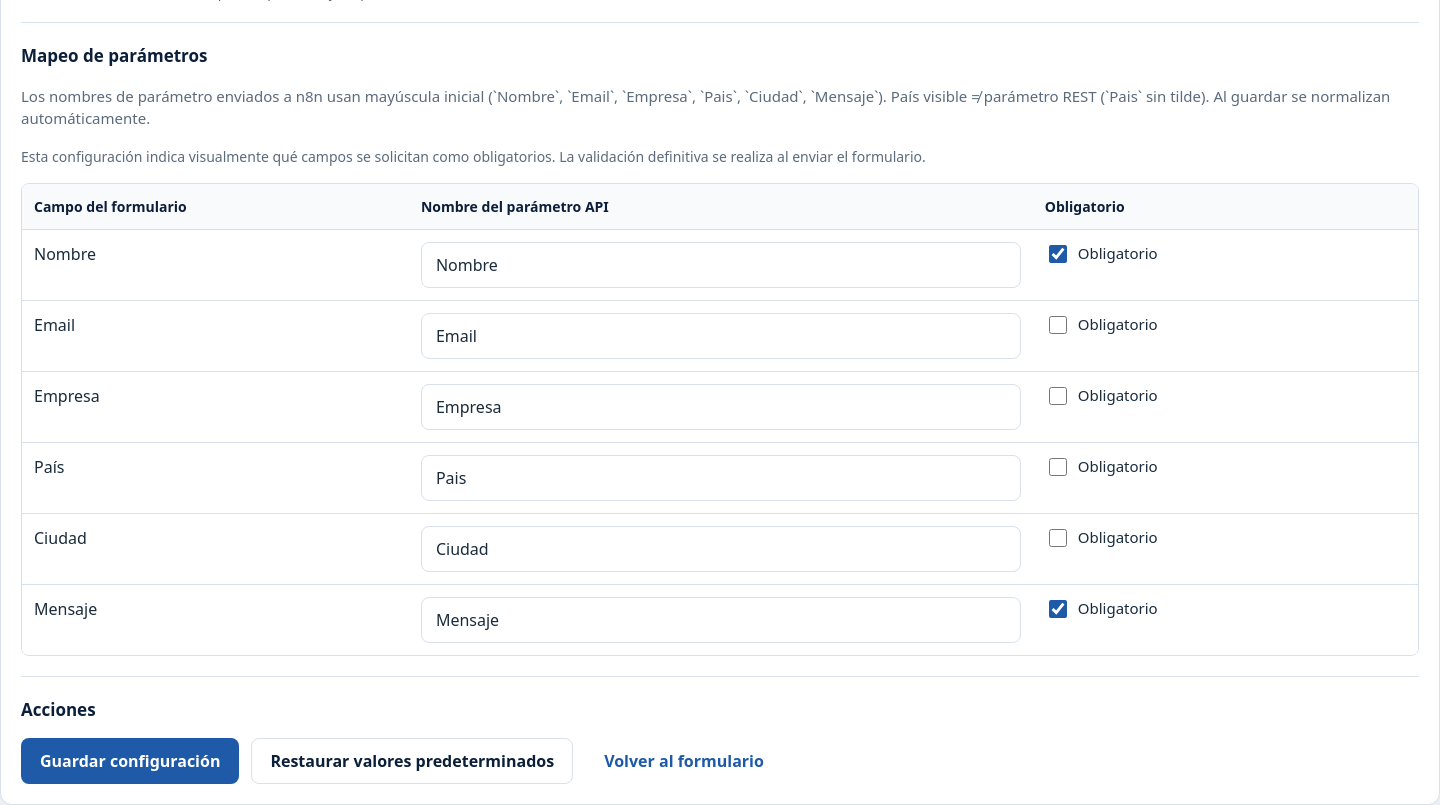
AdminPage › marca País automáticamente al marcar Ciudad
(page scrolled)
Click the checkbox named "Marcar Ciudad como obligatoria" at (1058, 538), box [1049,528,1067,546]
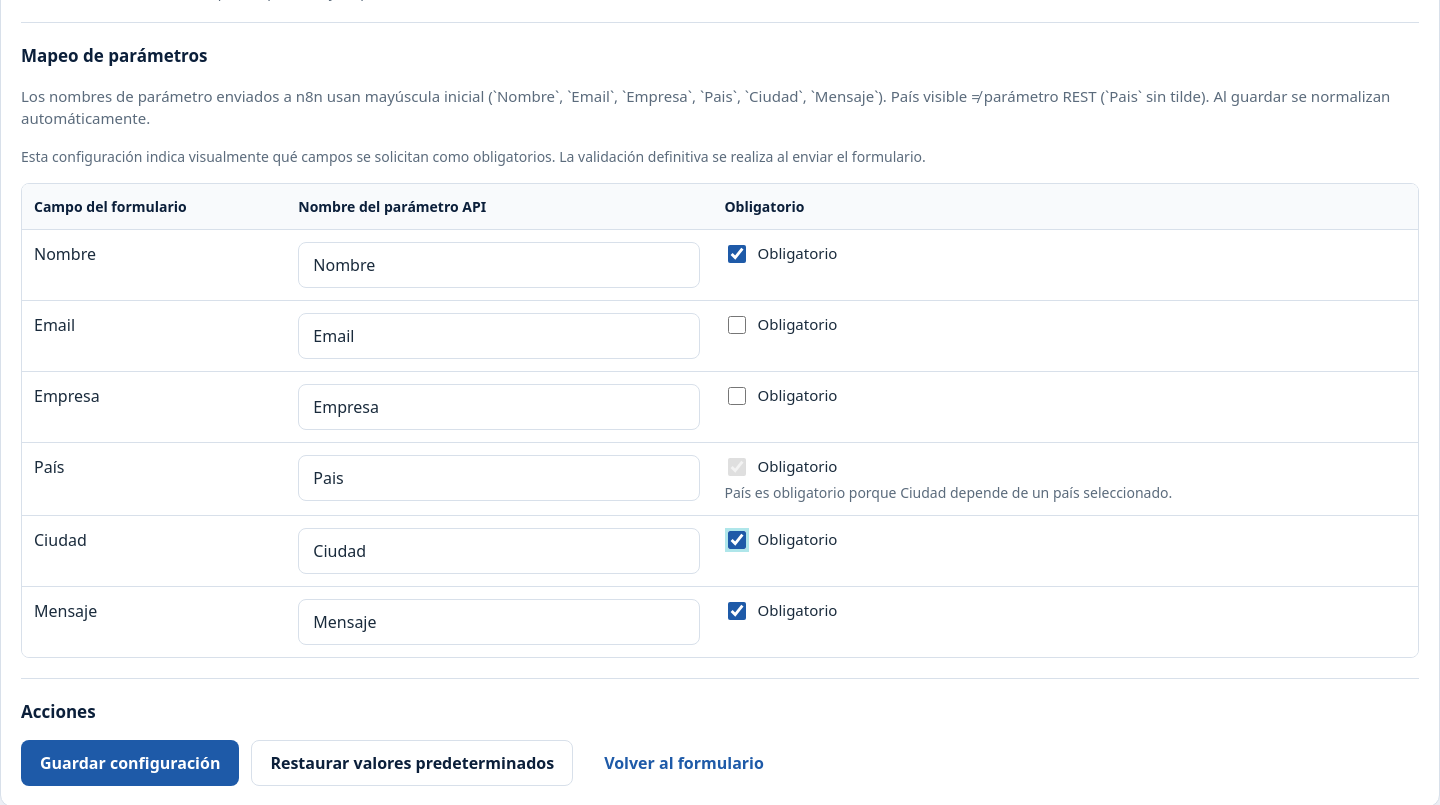
Check: the checkbox named "Marcar País como obligatorio" is checked, box [728,458,746,476]
Check: the checkbox named "Marcar País como obligatorio" is disabled, box [728,458,746,476]
Check: the text "País es obligatorio porque Ciudad depende de un país seleccionado." is shown, box [724,482,1172,502]
